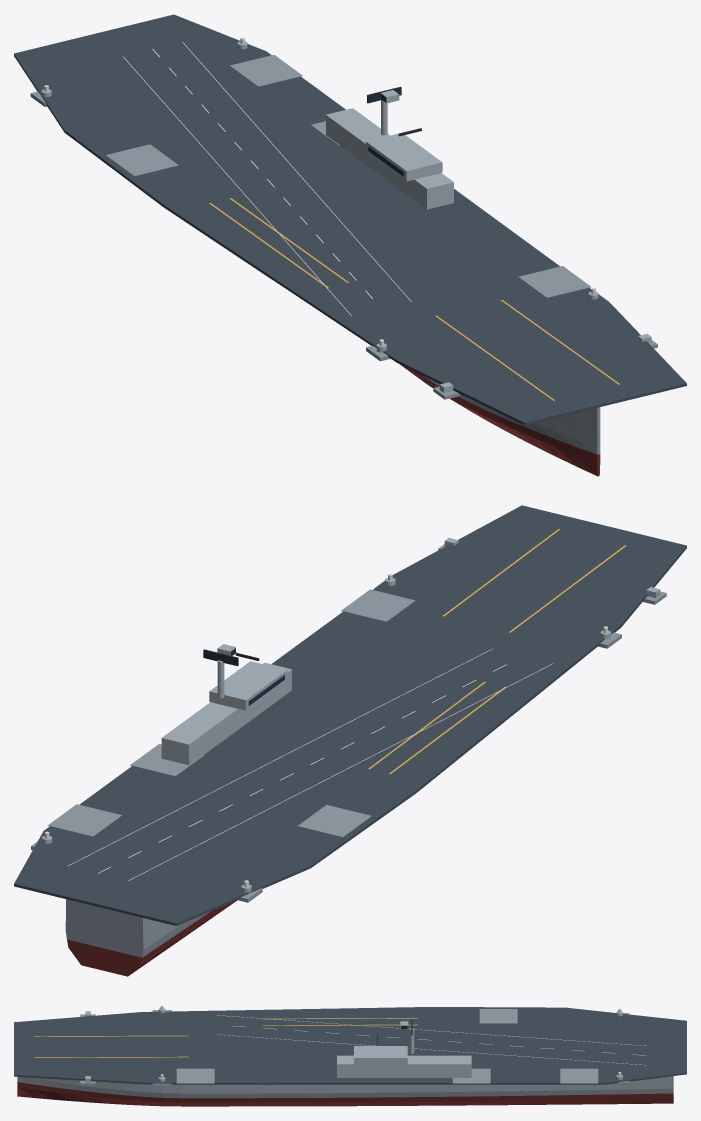
Rendered from ran_cvn_commonwealth_1988.obj.
The picture shows the model from 3 angles, top to bottom: view 1: azimuth 30°, elevation 25°; view 2: azimuth 150°, elevation 25°; view 3: azimuth 270°, elevation 25°; orthographic projection. The views are drawn at different scales.
Parts seen in each view (by area): view 1: FlightDeck, Island, UnderwaterHull, Hull, Bridge, Elevator_4, Elevator_1, Elevator_3; view 2: FlightDeck, Hull, Island, UnderwaterHull, Bridge, Elevator_1, Elevator_3, Elevator_4, Elevator_2; view 3: FlightDeck, Hull, UnderwaterHull, Island, Bridge, Elevator_1, Elevator_3, Elevator_4, Elevator_2, LandingEdge_-1, LandingEdge_1, Catapult_2 (+2 smaller).
Boxes of the visible parts, x1,y1,x2,y2 form: FlightDeck: (14,14,686,425); Island: (326,108,453,209); UnderwaterHull: (400,364,600,476); Hull: (424,376,600,454); Bridge: (366,133,442,181); Elevator_4: (105,144,178,176); Elevator_1: (518,266,590,297); Elevator_3: (230,55,302,86); FlightDeck: (14,505,686,925); Hull: (65,899,210,957); Island: (161,662,291,765); UnderwaterHull: (67,900,237,976); Bridge: (209,661,287,710); Elevator_1: (341,589,415,621); Elevator_3: (47,804,121,836); Elevator_4: (297,805,371,837); Elevator_2: (130,744,204,776); FlightDeck: (14,1007,686,1084); Hull: (17,1076,673,1098); UnderwaterHull: (17,1082,673,1106); Island: (337,1055,471,1077); Bridge: (354,1046,407,1064); Elevator_1: (176,1068,214,1083); Elevator_3: (560,1068,598,1083); Elevator_4: (479,1009,517,1023); Elevator_2: (452,1068,490,1083); LandingEdge_-1: (217,1015,645,1045); LandingEdge_1: (216,1034,646,1065); Catapult_2: (34,1035,188,1036).
Size of the model in its own units: 95.45 by 58.2 by 354.
